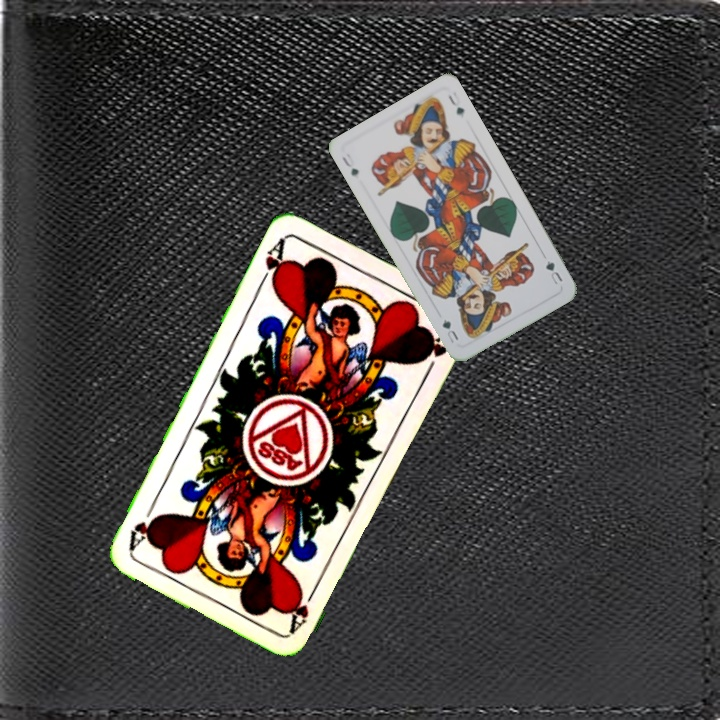GU: (542, 256, 565, 287), (338, 149, 361, 178)
HA: (285, 579, 321, 635), (254, 234, 289, 290)
